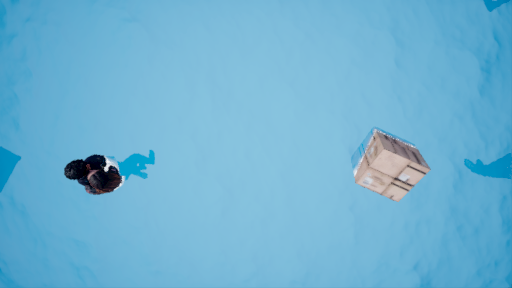person: (68, 147, 156, 198)
